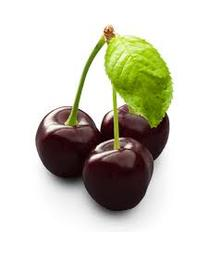cherry: (82, 138, 155, 212), (35, 106, 101, 180), (102, 101, 170, 169)
